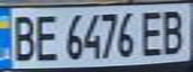4: (81, 10, 103, 61)
6: (60, 10, 84, 61), (115, 8, 139, 59)
7: (100, 9, 121, 60)
B: (6, 11, 39, 63), (157, 7, 190, 56)
E: (136, 7, 169, 57), (30, 11, 60, 62)
